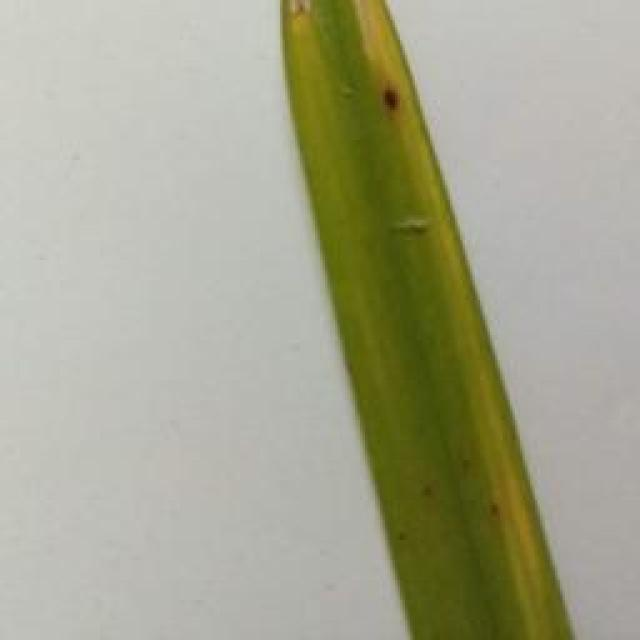Brown_Spot: (378, 79, 403, 110), (386, 524, 414, 548), (488, 504, 508, 526), (421, 476, 436, 498), (456, 456, 474, 474)
